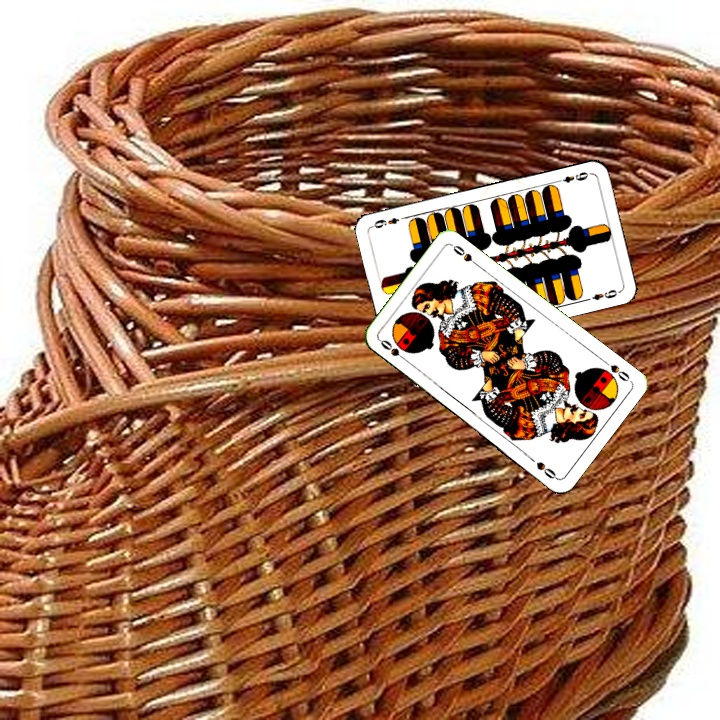E9: (552, 168, 591, 186)
SO: (376, 335, 411, 365), (598, 355, 633, 384)
